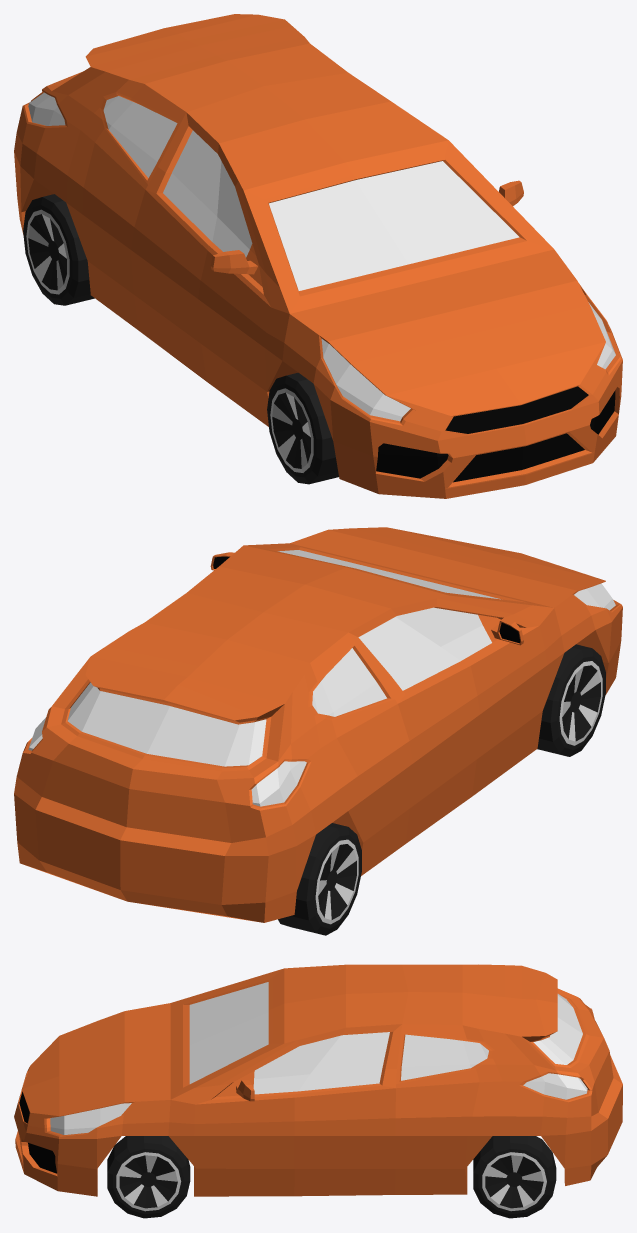
Rendered from 2orange.fbx.
The picture shows the model from 3 angles, top to bottom: view 1: azimuth 30°, elevation 25°; view 2: azimuth 150°, elevation 25°; view 3: azimuth 270°, elevation 25°; orthographic projection. The views are drawn at different scales.
Parts seen in each view (by area): view 1: Cube; view 2: Cube; view 3: Cube.
Boxes of the visible parts, <box> form: Cube: <box>14,14,622,498</box>; Cube: <box>14,527,622,935</box>; Cube: <box>14,964,622,1218</box>.
Size of the model in its own units: 134 by 95.91 by 303.
